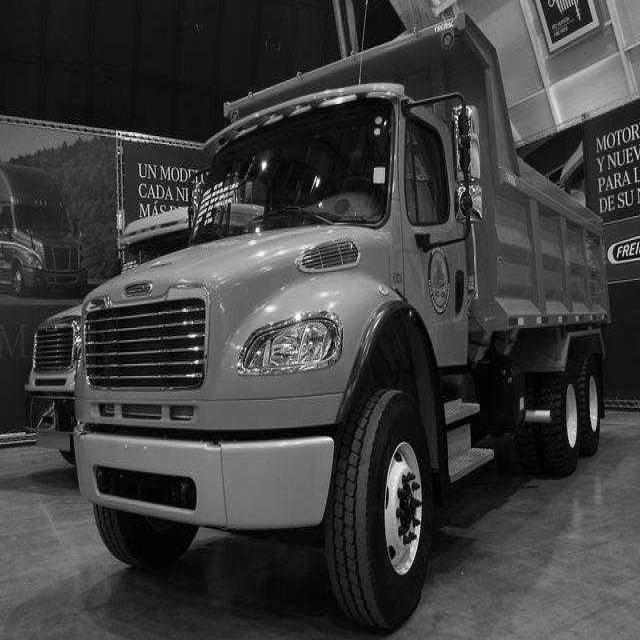Truck: (74, 13, 608, 628)
